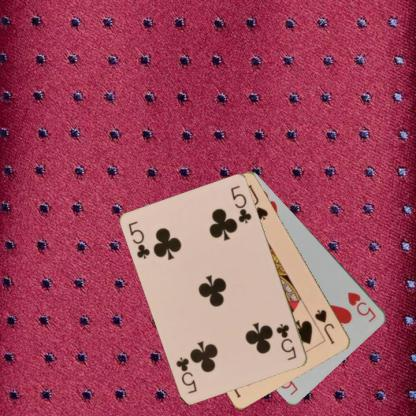5c: (126, 218, 152, 260), (273, 320, 298, 362)
5h: (345, 290, 378, 324)
Js: (312, 307, 336, 346)
